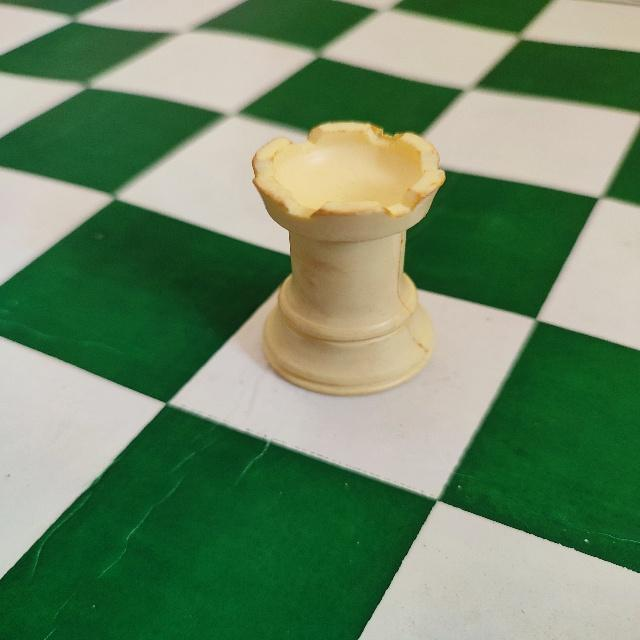Rook: (250, 116, 452, 400)
